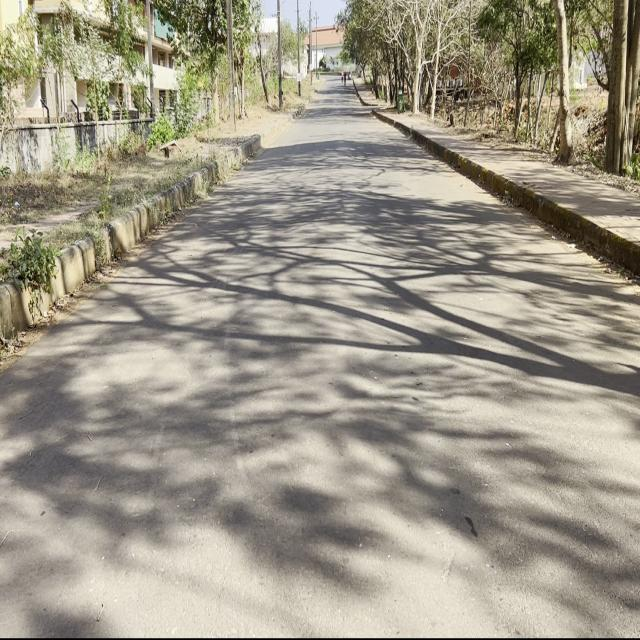Road: (2, 87, 638, 632)
